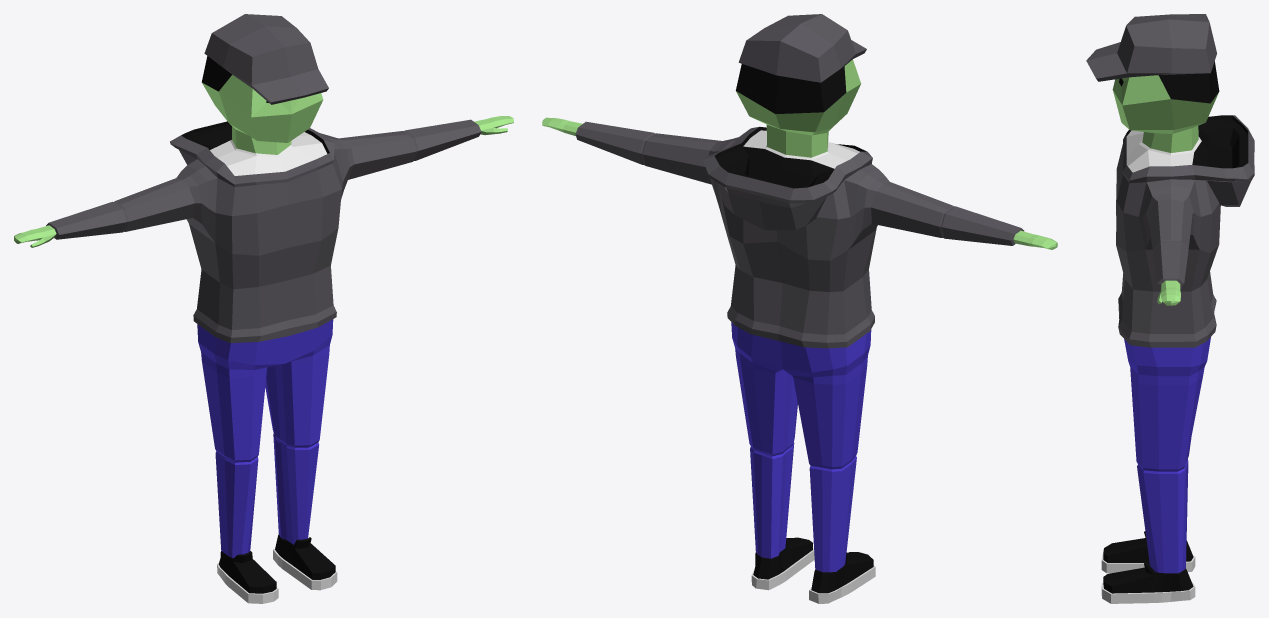
Rendered from coolgayIdle.fbx.
3 views of the same model, side by side, from view 1: azimuth 30°, elevation 25°; view 2: azimuth 150°, elevation 25°; view 3: azimuth 270°, elevation 25° (orthographic). The views are drawn at different scales.
Visible parts, largest first — view 1: body; view 2: body; view 3: body.
Boxes of the visible parts, bbox=[...] form: body: bbox=[14, 14, 513, 603]; body: bbox=[542, 14, 1057, 603]; body: bbox=[1086, 14, 1254, 603].
Bounding box in the file's own units: 163 × 171 × 46.44.
